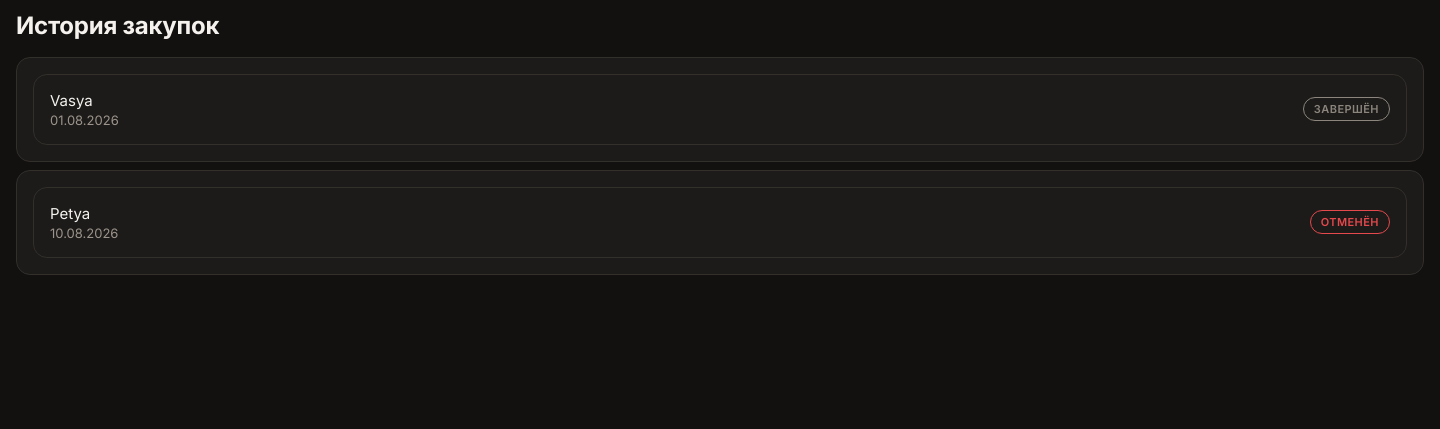
Scenario: HistoryPage › works unchanged for an admin caller, whose /history lists every finished order
Expected: the button "Vasya 01.08.2026 Завершён" is shown, [33,74,1407,145]
Click the button "Petya 10.08.2026 Отменён" at point(70, 213), box [33,187,1407,258]
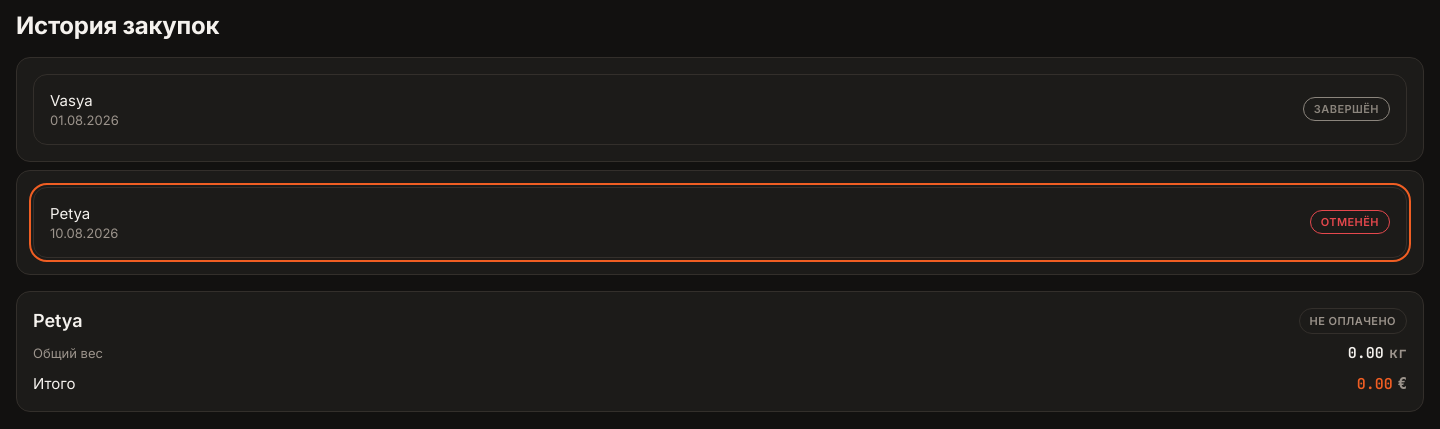
Now the text "Итого" shows "0.00", box [1348,343,1384,363]
Now the text "Итого" shows "Не оплачено", box [1310,314,1396,328]
